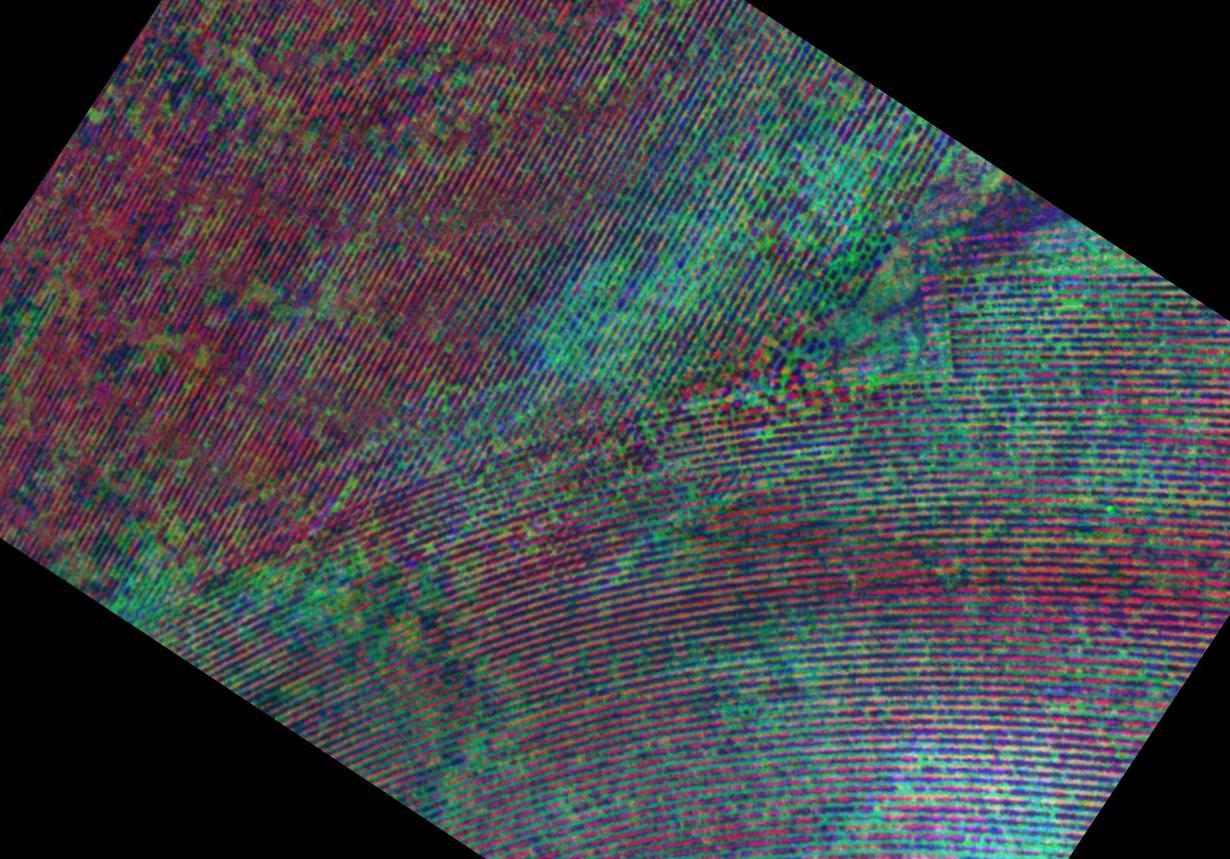dc: (551, 255, 673, 397), (126, 508, 235, 630), (718, 138, 819, 261), (716, 623, 818, 744), (846, 318, 960, 423), (411, 703, 496, 828)
